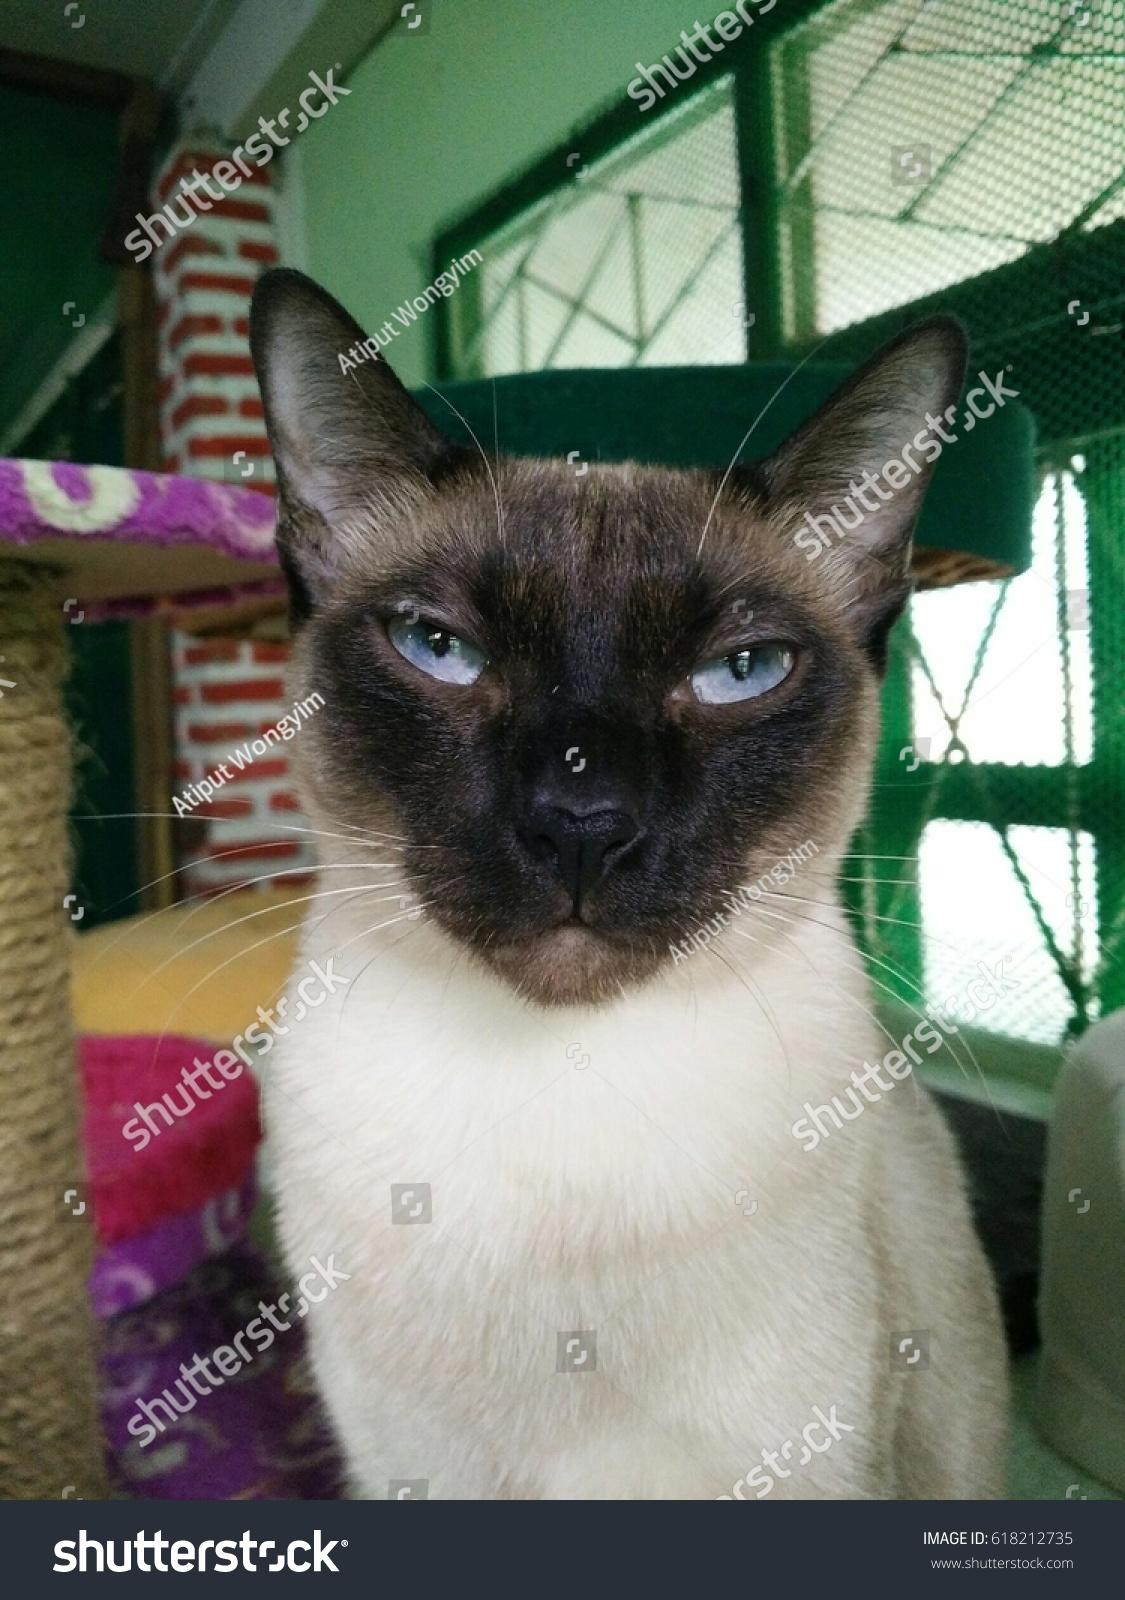siamese: (236, 251, 969, 1034)
